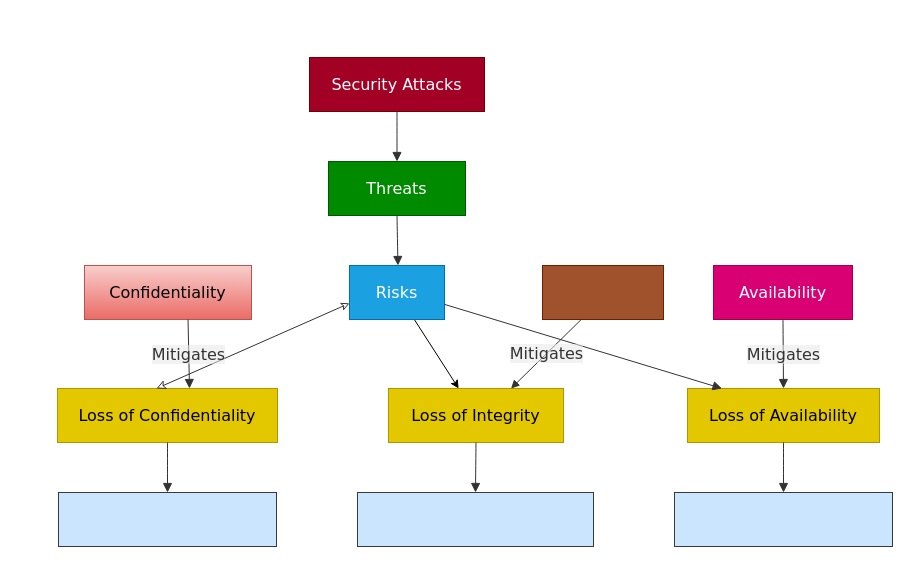
This 910x564 diagram has some shape labels left out. The shapes that lost their labels are listed below. From the top down, each one's box as (x1, y1, x2, y2) in pixels, then its label:
(542, 264, 664, 320): Integrity
(58, 492, 276, 546): Example: Data Breach
(356, 492, 594, 546): Example: File Tampering
(674, 492, 892, 546): Example: DDoS Attack
